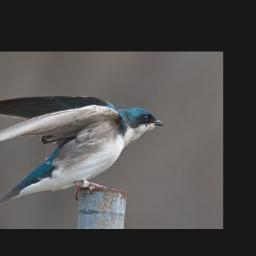Swallow: (0, 92, 166, 214)
